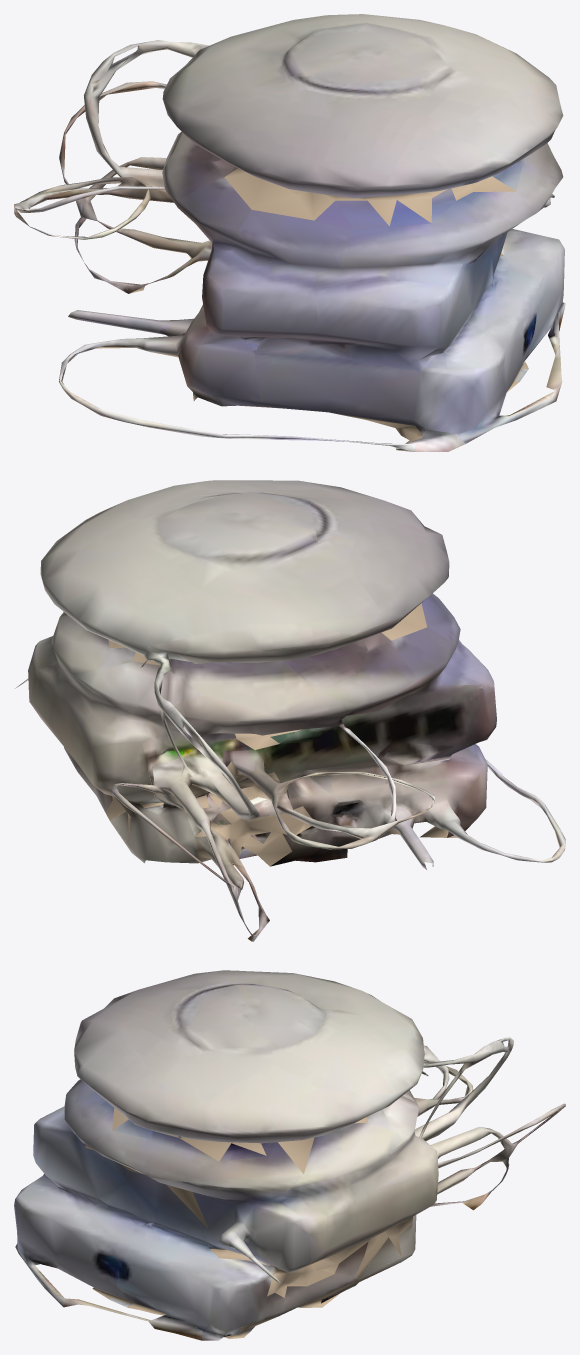
File: woo-network.glb
3 views of the same model, one above another, from view 1: azimuth 30°, elevation 25°; view 2: azimuth 150°, elevation 25°; view 3: azimuth 270°, elevation 25° (orthographic). The views are drawn at different scales.
Visible parts, largest first — view 1: mesh_lowpoly_material0000, mesh_lowpoly_material0001, mesh_lowpoly_material0002; view 2: mesh_lowpoly_material0000, mesh_lowpoly_material0001, mesh_lowpoly_material0002; view 3: mesh_lowpoly_material0000, mesh_lowpoly_material0001.
Boxes of the visible parts, x1,y1,x2,y2 form: mesh_lowpoly_material0000: (14,14,565,451); mesh_lowpoly_material0001: (30,85,562,438); mesh_lowpoly_material0002: (14,45,558,367); mesh_lowpoly_material0000: (15,480,565,941); mesh_lowpoly_material0001: (110,646,558,919); mesh_lowpoly_material0002: (140,519,482,934); mesh_lowpoly_material0000: (14,970,565,1340); mesh_lowpoly_material0001: (147,1102,508,1332).
Bounding box in the file's own units: 2.17 × 1.19 × 2.29.
Materials: 4 (4 with a texture image).
